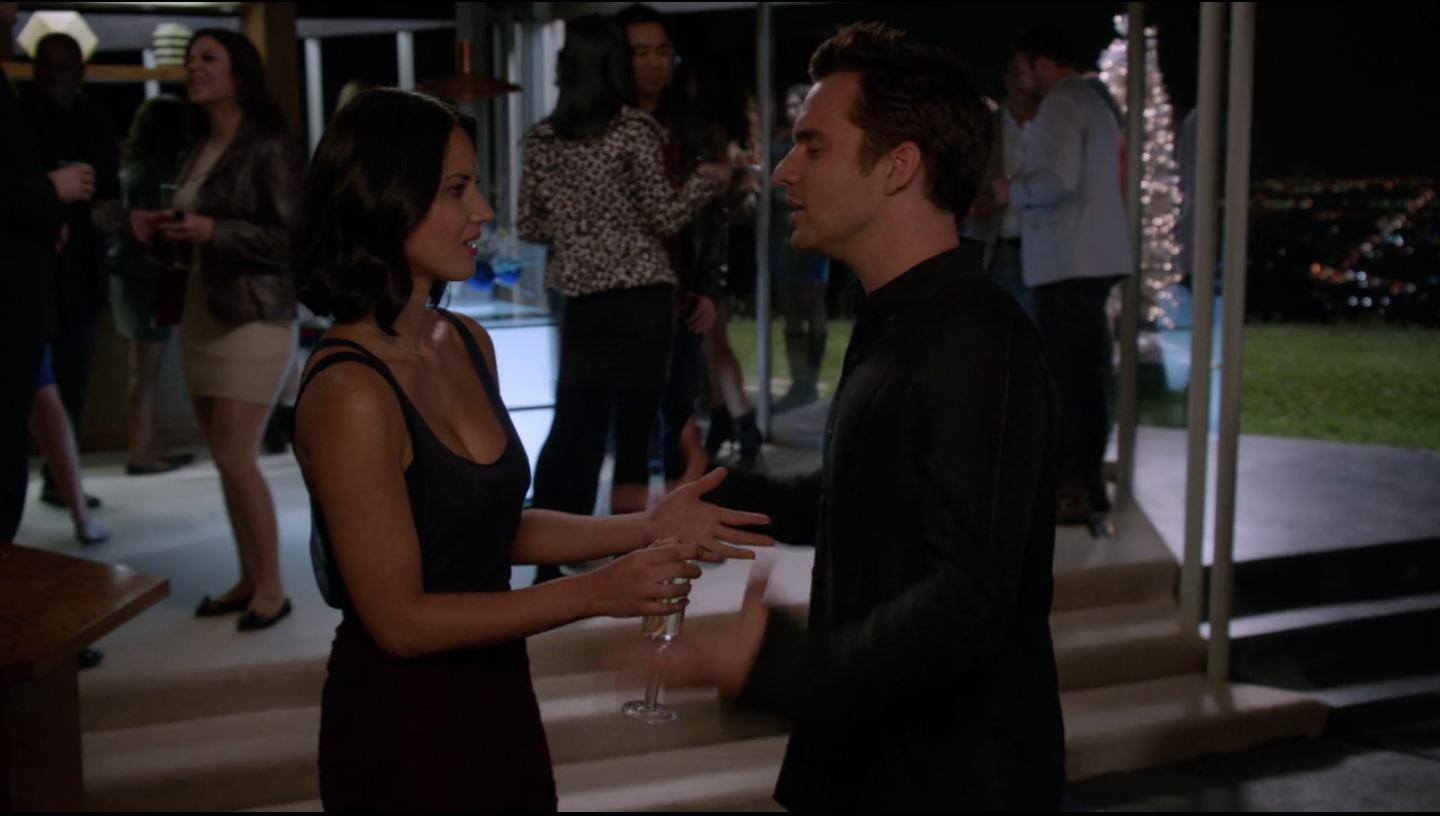person: (747, 30, 1080, 816), (293, 86, 604, 816), (136, 25, 302, 635), (519, 24, 717, 507), (1025, 34, 1125, 530)
